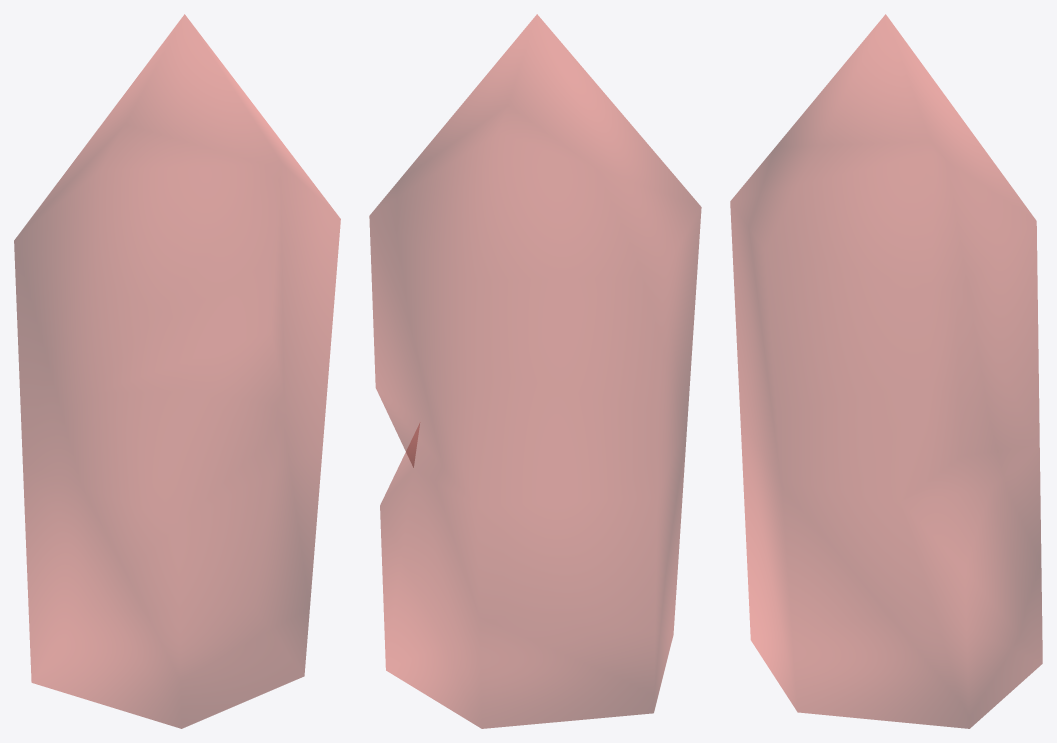
File: Crystal2_Bogdan.fbx
3 views of the same model, side by side, from view 1: azimuth 30°, elevation 25°; view 2: azimuth 150°, elevation 25°; view 3: azimuth 270°, elevation 25° (orthographic).
Visible parts, largest first — view 1: Crystal2; view 2: Crystal2; view 3: Crystal2.
Part boxes in pixels (x1,y1,x2,y2): Crystal2: (14, 14, 340, 728); Crystal2: (369, 14, 701, 728); Crystal2: (730, 14, 1042, 728).
Size of the model in its own units: 32.9 by 73.25 by 31.41.
